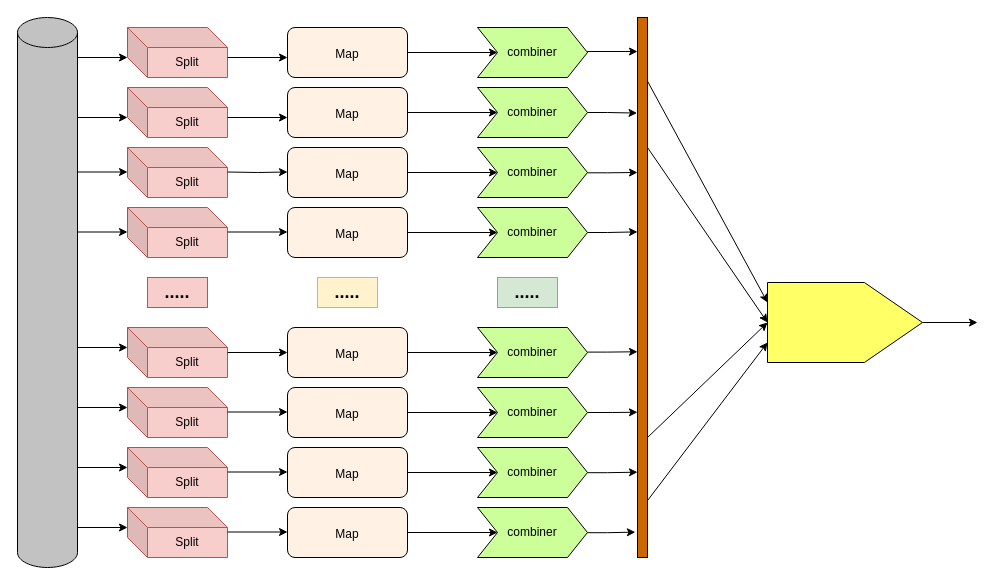
The diagram is 1003 pixels wide and 585 high, and some of its shapes have lost their labels. The shapes that lost their labels are listed below. From the top down, each one's box as (x1, y1, x2, y2) in pixels, then its label:
(16, 16, 78, 568): Data block for site 1
(766, 282, 922, 362): Redcuer
